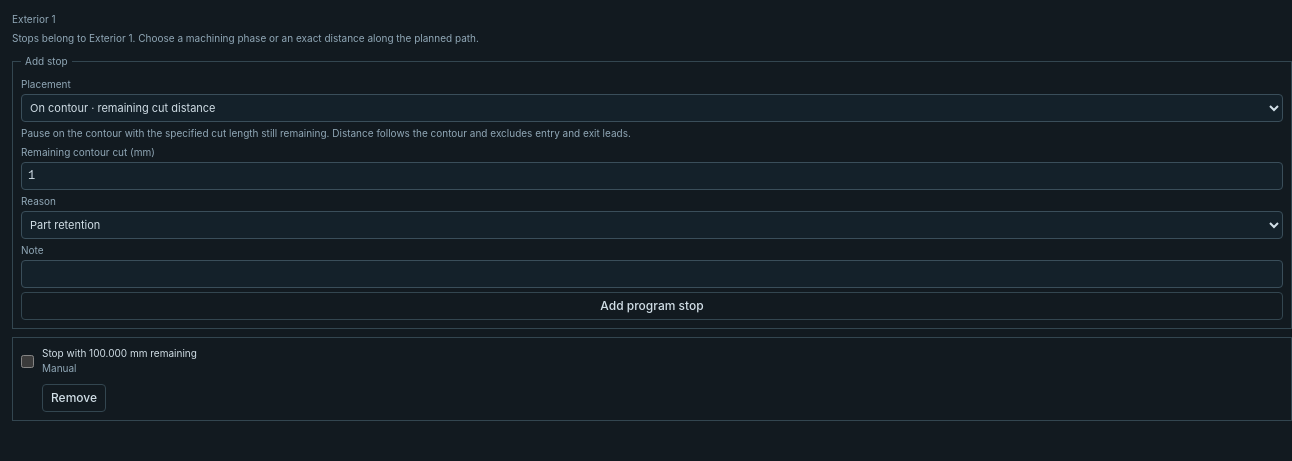
EditorProgramStopsPanel › explains an invalid enable action without committing it
Click the checkbox named "Enable stop-1": (28, 361) 21,354 -> 34,368
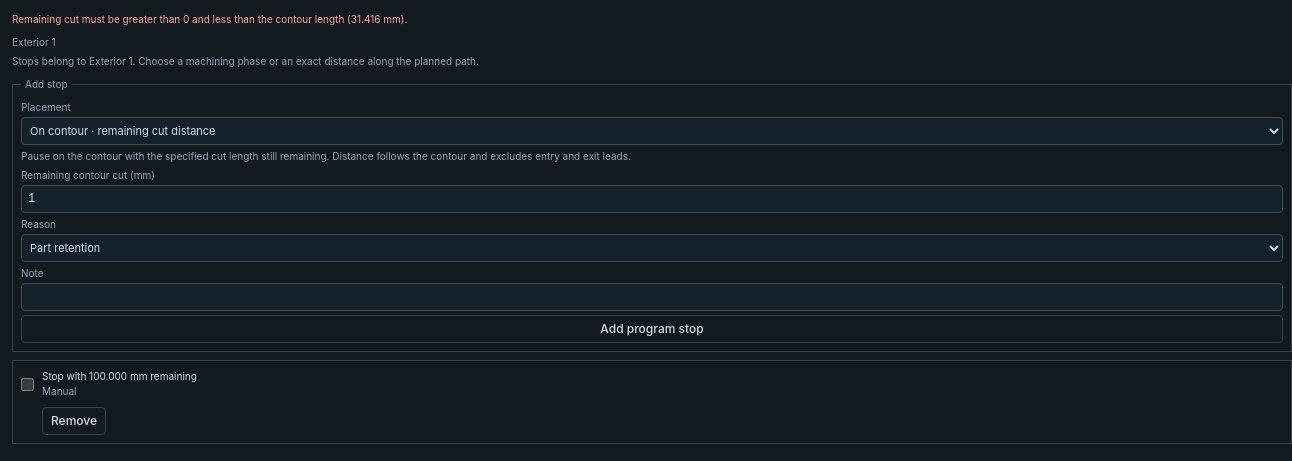
Expected: the message shows "less than the contour length", 12,13 -> 407,25
